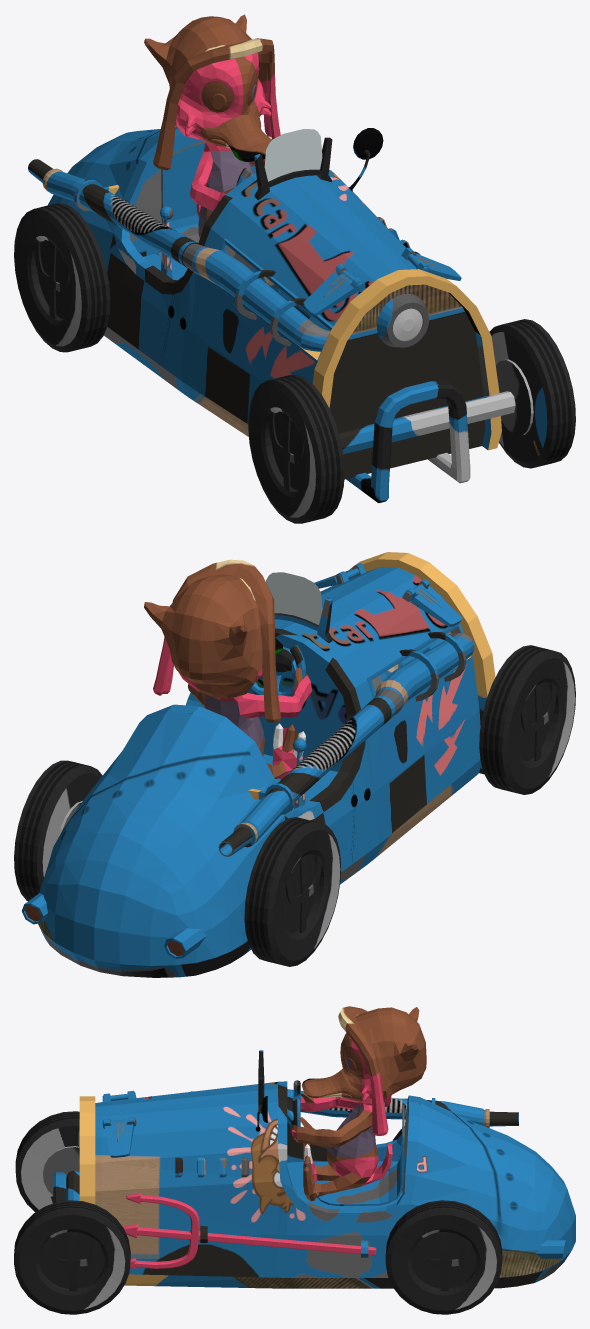
The model's file is kart.glb.
The picture shows the model from 3 angles, top to bottom: view 1: azimuth 30°, elevation 25°; view 2: azimuth 150°, elevation 25°; view 3: azimuth 270°, elevation 25°; orthographic projection. The views are drawn at different scales.
Parts seen in each view (by area): view 1: body (×4), wheel-rear-left, wheel-front-left, wheel-front-right; view 2: body (×3), wheel-front-left, wheel-rear-left, wheel-rear-right; view 3: body (×2), wheel-rear-right, wheel-front-right, wheel-front-left.
Part boxes in pixels (<box>): body (×4): <box>21,14,515,503</box>; wheel-rear-left: <box>14,203,110,352</box>; wheel-front-left: <box>248,375,344,523</box>; wheel-front-right: <box>489,319,575,468</box>; body (×3): <box>22,552,495,977</box>; wheel-front-left: <box>479,645,575,794</box>; wheel-rear-left: <box>244,817,340,966</box>; wheel-rear-right: <box>14,760,102,901</box>; body (×2): <box>53,1006,575,1288</box>; wheel-rear-right: <box>385,1200,502,1314</box>; wheel-front-right: <box>14,1200,130,1314</box>; wheel-front-left: <box>15,1111,79,1212</box>.
Size of the model in its own units: 0.7265 by 0.8685 by 1.73.
5 materials, 5 textured.
